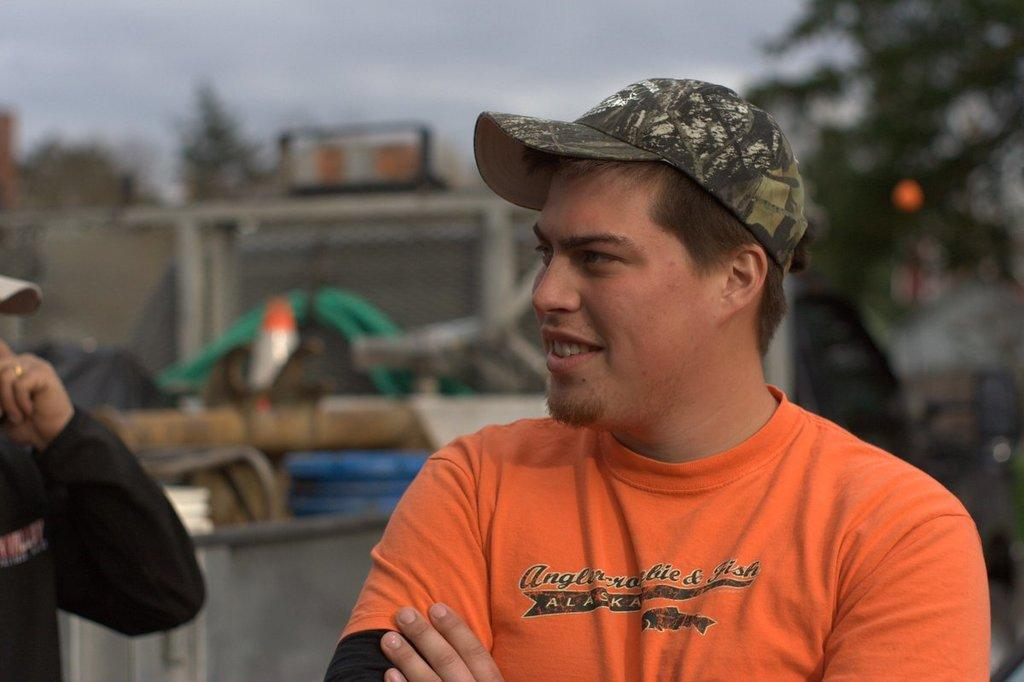Hat: (472, 75, 811, 276), (0, 271, 44, 312)
